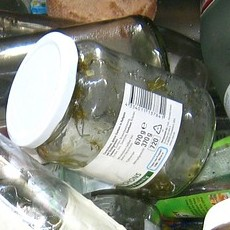garbage: (3, 9, 226, 230)
